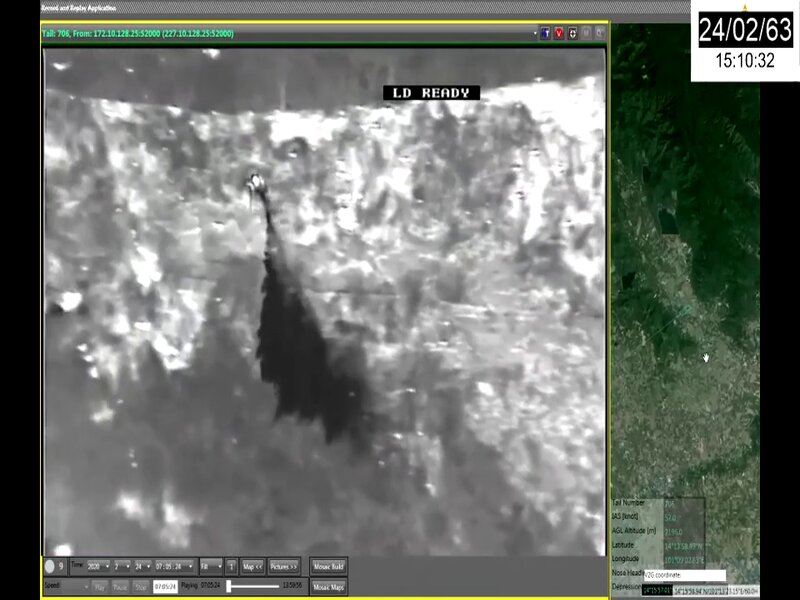Fire: (270, 75, 604, 284)
